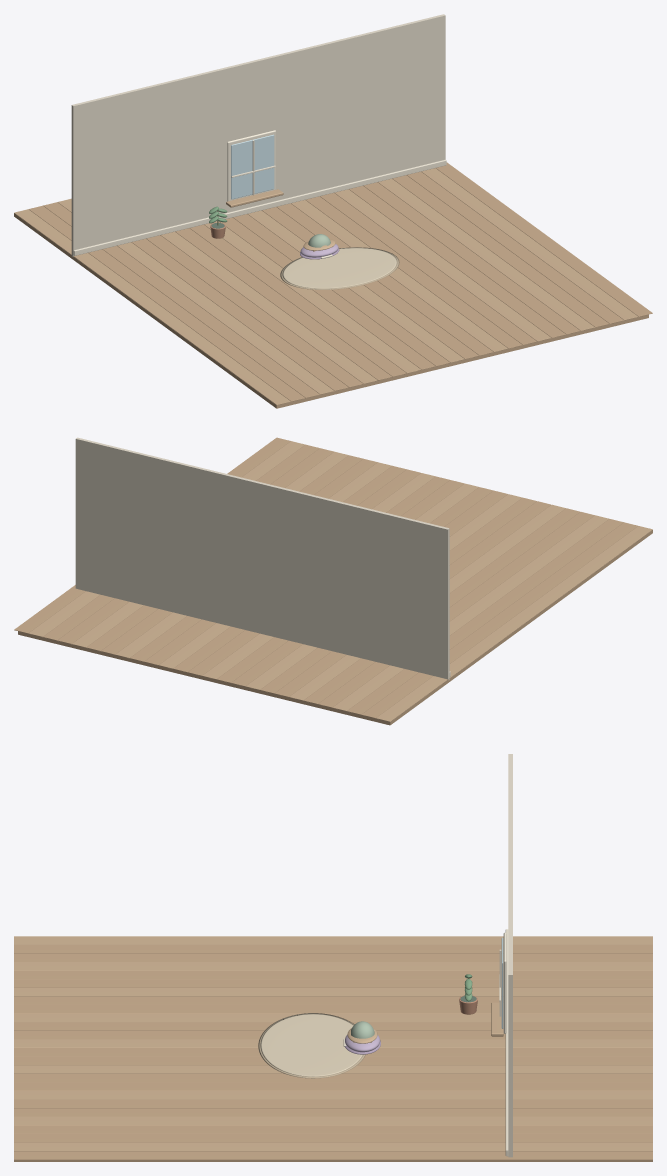
File: sunlit-room.glb
3 views of the same model, one above another, from view 1: azimuth 30°, elevation 25°; view 2: azimuth 150°, elevation 25°; view 3: azimuth 270°, elevation 25° (orthographic). The views are drawn at different scales.
Parts seen in each view (by area): view 1: ivory back wall, wide quiet board, wide quiet board.001, linen rug, wide quiet board.002, wide quiet board.003, wide quiet board.025, wide quiet board.018, wide quiet board.004, wide quiet board.020, wide quiet board.024, wide quiet board.007 (+20 smaller); view 2: ivory back wall, wide quiet board, wide quiet board.001, wide quiet board.002, wide quiet board.003, wide quiet board.004, wide quiet board.005, floor foundation, wide quiet board.006, wide quiet board.007, wide quiet board.008, wide quiet board.009 (+16 smaller); view 3: wide quiet board.019, wide quiet board.021, wide quiet board.024, wide quiet board.004, wide quiet board.025, wide quiet board.017, wide quiet board.018, wide quiet board.020, wide quiet board.022, wide quiet board.023, wide quiet board, wide quiet board.001 (+18 smaller).
Boxes of the visible parts, <box> form: ivory back wall: <box>71,14,445,257</box>; wide quiet board: <box>14,209,290,404</box>; wide quiet board.001: <box>28,205,305,401</box>; linen rug: <box>282,247,397,288</box>; wide quiet board.002: <box>43,202,319,397</box>; wide quiet board.003: <box>57,198,333,394</box>; wide quiet board.025: <box>436,162,652,316</box>; wide quiet board.018: <box>334,189,551,341</box>; wide quiet board.004: <box>131,238,348,390</box>; wide quiet board.020: <box>363,182,580,334</box>; wide quiet board.024: <box>421,168,638,320</box>; wide quiet board.007: <box>175,228,391,380</box>; ivory back wall: <box>75,437,449,680</box>; wide quiet board: <box>376,526,652,721</box>; wide quiet board.001: <box>361,522,637,718</box>; wide quiet board.002: <box>347,519,623,714</box>; wide quiet board.003: <box>332,515,608,711</box>; wide quiet board.004: <box>318,512,594,707</box>; wide quiet board.005: <box>303,508,579,704</box>; floor foundation: <box>18,530,652,725</box>; wide quiet board.006: <box>289,504,565,700</box>; wide quiet board.007: <box>274,501,550,697</box>; wide quiet board.008: <box>260,497,536,693</box>; wide quiet board.009: <box>246,494,522,689</box>; wide quiet board.019: <box>14,1099,652,1108</box>; wide quiet board.021: <box>14,1116,652,1125</box>; wide quiet board.024: <box>14,1142,652,1151</box>; wide quiet board.004: <box>14,970,652,979</box>; wide quiet board.025: <box>14,1151,652,1159</box>; wide quiet board.017: <box>14,1082,652,1090</box>; wide quiet board.018: <box>14,1091,652,1099</box>; wide quiet board.020: <box>14,1108,652,1116</box>; wide quiet board.022: <box>14,1125,652,1133</box>; wide quiet board.023: <box>14,1134,652,1142</box>; wide quiet board: <box>14,936,652,944</box>; wide quiet board.001: <box>14,945,652,953</box>.
Size of the model in its own units: 18.19 by 7.1 by 22.
